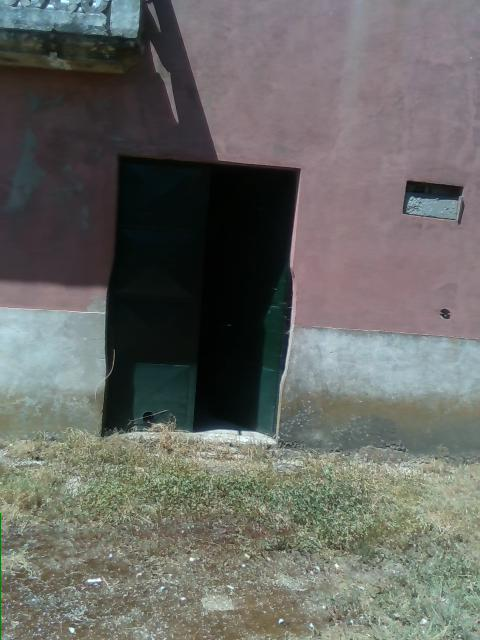semi_door: (183, 154, 303, 440)
